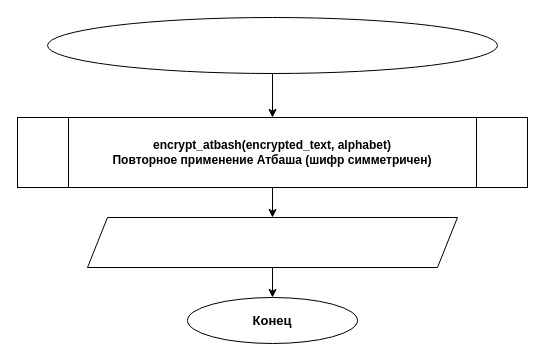
Some shapes in this 545 by 361 pixel diagram are drawn without their labels. The centre of each missing label's shape, as x and y in pixels:
Возврат полученной строки: the point at 272,242
Начало decrypt_atbash(encrypted_text, alphabet): the point at 272,45
